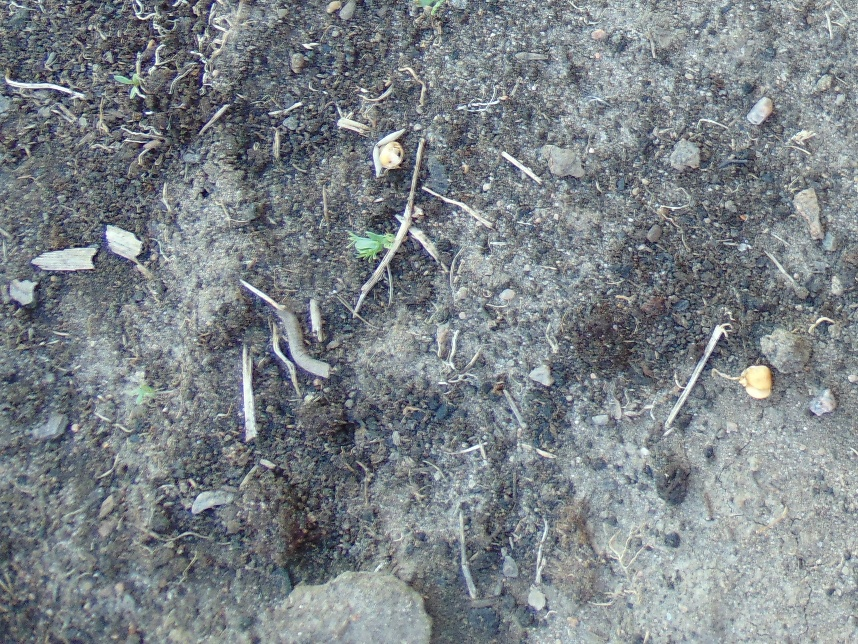crop: (341, 226, 397, 262), (134, 385, 155, 405)
